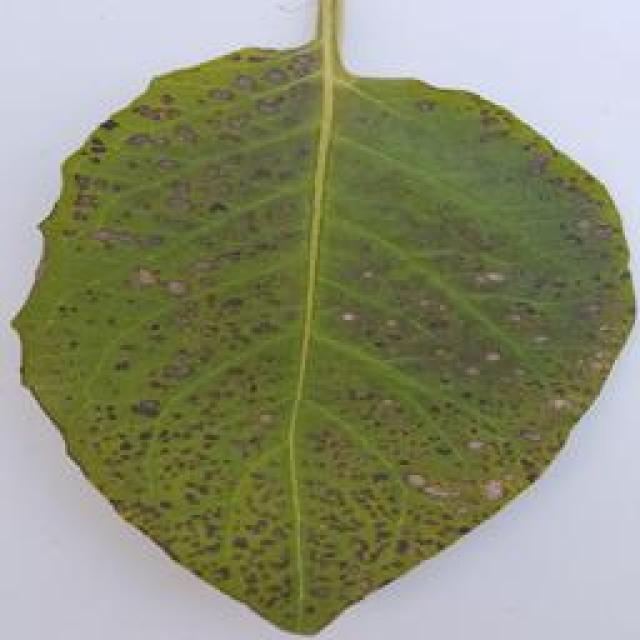Potato_Early_Blight: (15, 28, 640, 638)
